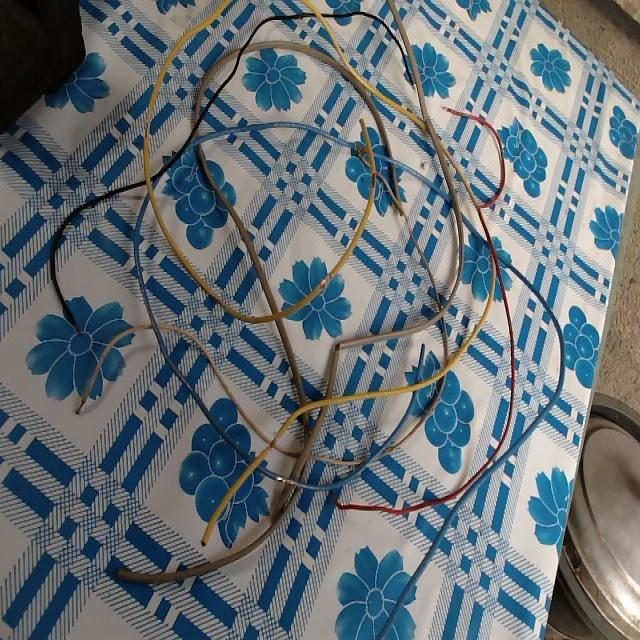-: (275, 469, 299, 495), (315, 270, 338, 294), (194, 530, 214, 550), (71, 399, 88, 417), (141, 112, 152, 139), (331, 337, 346, 356), (368, 169, 377, 196), (112, 563, 123, 585), (66, 315, 81, 329)
